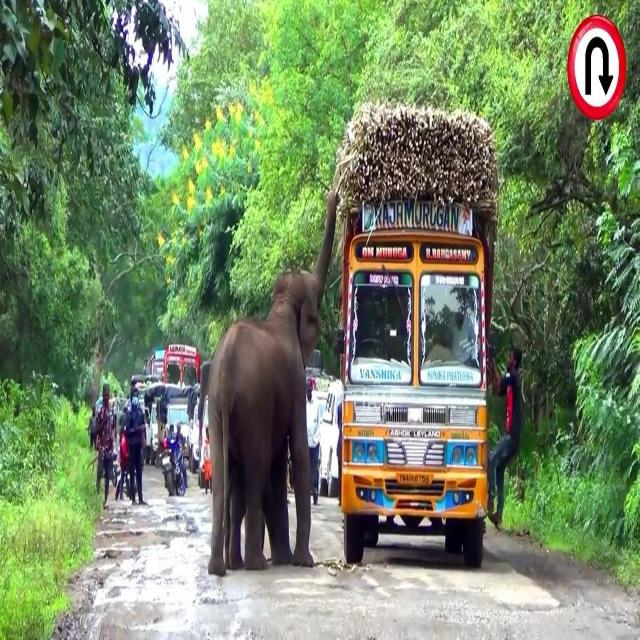Elephant: (206, 187, 338, 577)
